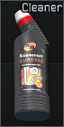Smoked Chimney drain cleaner: (0, 0, 64, 127)
